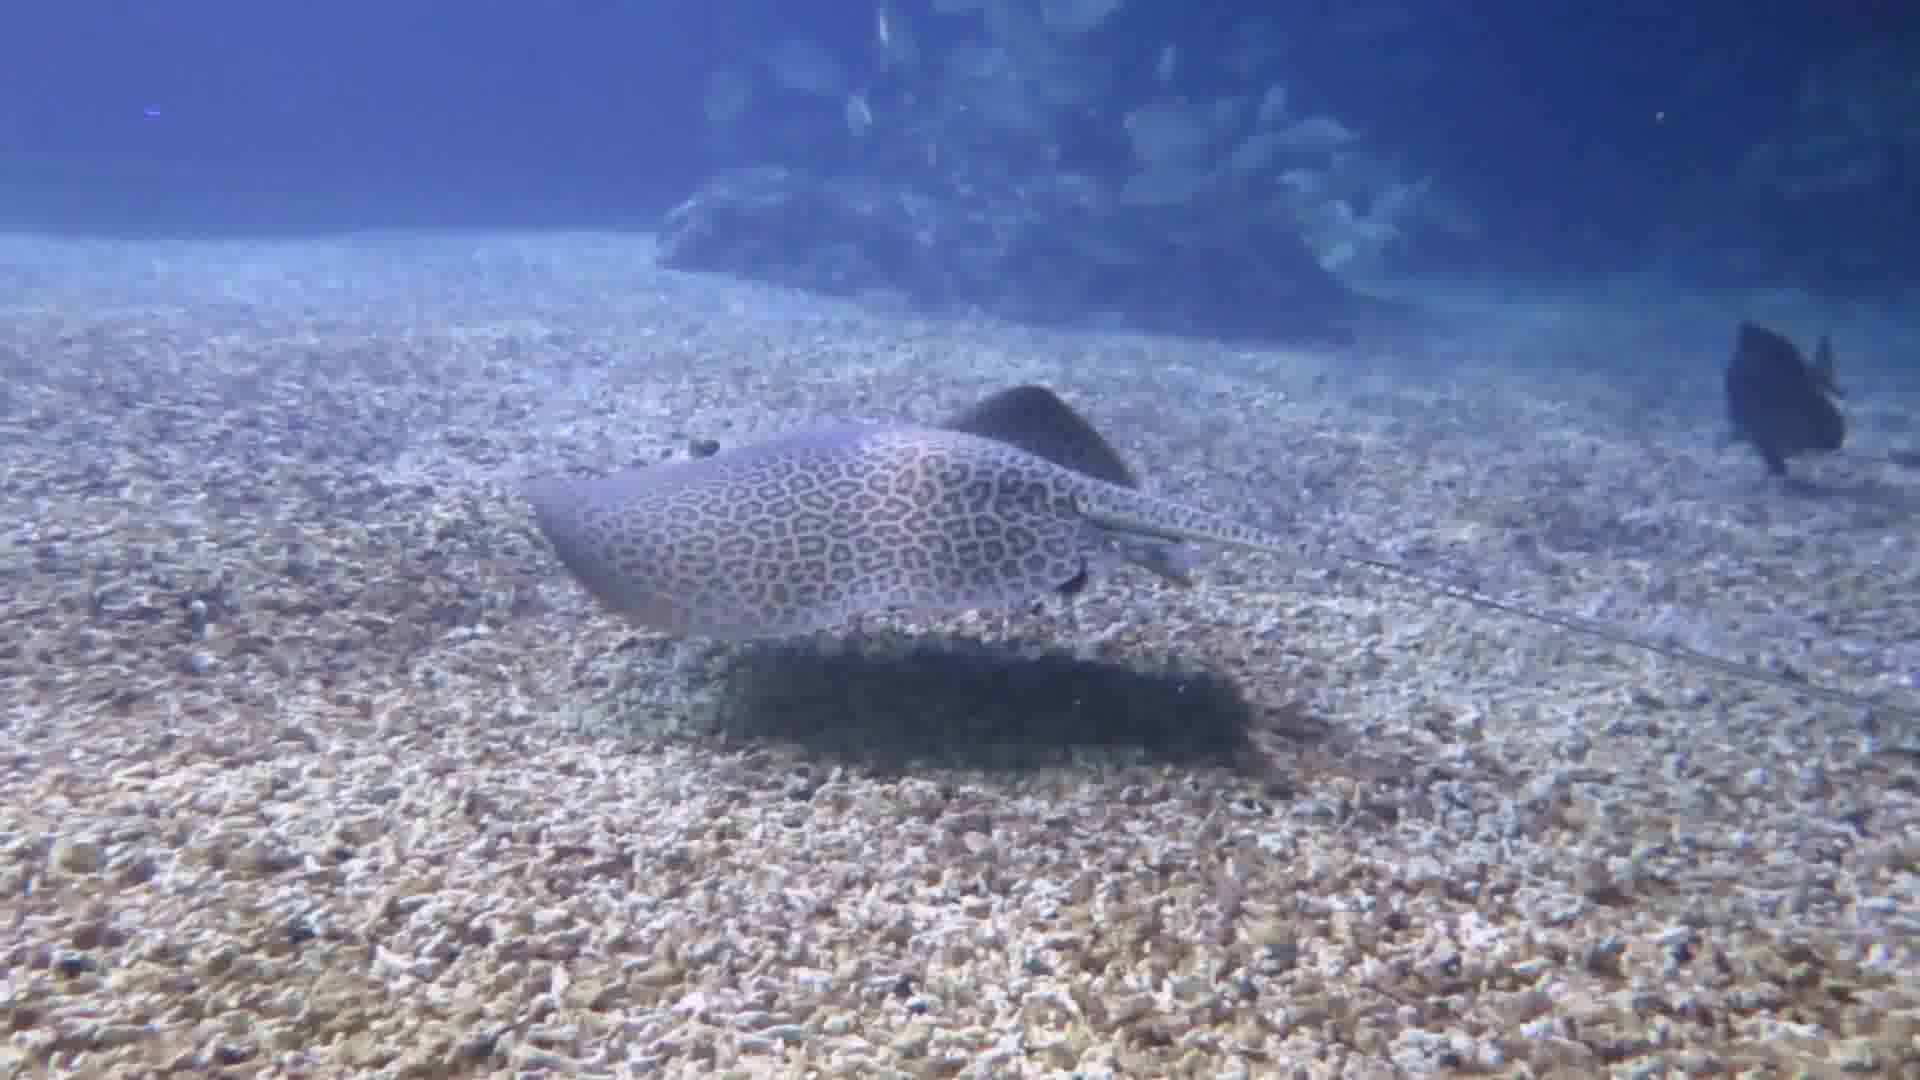Himantura uarnak: (508, 355, 1696, 820)
